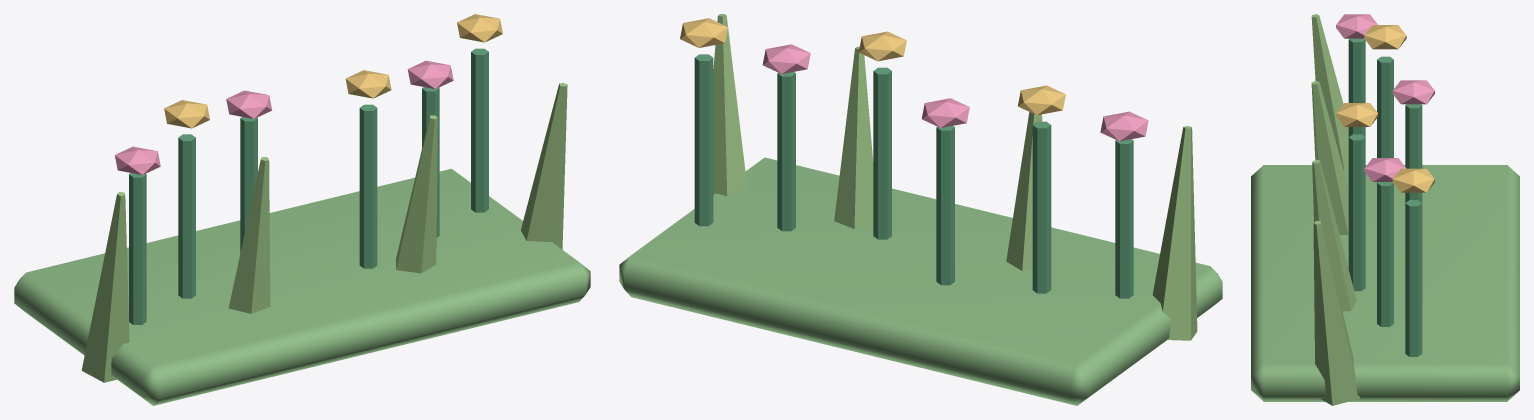
File: MYB96_WildflowerGrassPatch.fbx
The picture shows the model from 3 angles, left to right: view 1: azimuth 30°, elevation 25°; view 2: azimuth 150°, elevation 25°; view 3: azimuth 270°, elevation 25°; orthographic projection. The views are drawn at different scales.
Visible parts, largest first — view 1: grass_clump_base, grass_blade_0, grass_blade_3, grass_blade_2, grass_blade_1, stem_3, stem_5, stem_1, stem_0, stem_2, stem_4, flower_5 (+5 smaller); view 2: grass_clump_base, grass_blade_0, grass_blade_2, grass_blade_3, stem_1, stem_5, stem_3, stem_2, stem_4, stem_0, grass_blade_1, flower_5 (+5 smaller); view 3: grass_clump_base, grass_blade_3, stem_5, stem_3, grass_blade_1, stem_4, grass_blade_2, grass_blade_0, stem_1, stem_2, stem_0, flower_1 (+5 smaller).
Boxes of the visible parts, box(x1,y1,x2,y2) form: grass_clump_base: box(14, 168, 590, 405); grass_blade_0: box(81, 191, 129, 382); grass_blade_3: box(521, 82, 567, 249); grass_blade_2: box(396, 115, 437, 273); grass_blade_1: box(228, 157, 270, 313); stem_3: box(359, 104, 377, 268); stem_5: box(471, 48, 488, 212); stem_1: box(178, 134, 195, 298); stem_0: box(129, 173, 146, 324); stem_2: box(240, 117, 257, 252); stem_4: box(422, 87, 439, 237); flower_5: box(457, 14, 502, 42); grass_clump_base: box(619, 157, 1222, 405); grass_blade_0: box(1152, 126, 1197, 340); grass_blade_2: box(834, 46, 873, 228); grass_blade_3: box(713, 14, 747, 196); stem_1: box(1032, 121, 1051, 293); stem_5: box(694, 54, 713, 226); stem_3: box(873, 67, 891, 239); stem_2: box(936, 126, 954, 285); stem_4: box(777, 72, 795, 231); stem_0: box(1115, 139, 1133, 298); grass_blade_1: box(1006, 112, 1042, 270); flower_5: box(680, 18, 727, 47); grass_clump_base: box(1251, 165, 1519, 401); grass_blade_3: box(1313, 220, 1359, 405); stem_5: box(1405, 200, 1422, 356); stem_3: box(1348, 134, 1365, 291); grass_blade_1: box(1311, 81, 1348, 235); stem_4: box(1377, 182, 1393, 326); grass_blade_2: box(1312, 160, 1356, 311); grass_blade_0: box(1311, 14, 1348, 170); stem_1: box(1377, 56, 1393, 182); stem_2: box(1405, 104, 1422, 202); stem_0: box(1348, 38, 1365, 136); flower_1: box(1364, 25, 1406, 49).
Bounding box in the file's own units: 73.5 × 34.58 × 38.
